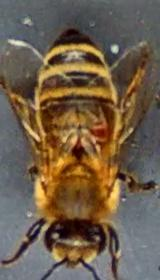varroa_mite: (84, 110, 118, 148)
